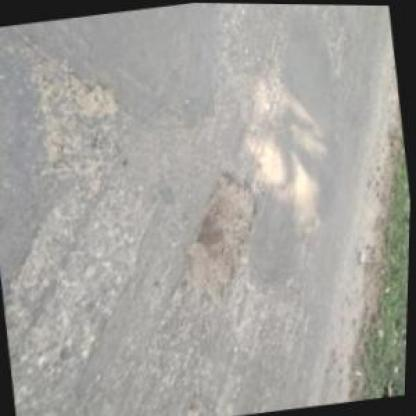pothole: (166, 165, 274, 313), (61, 64, 125, 123)
